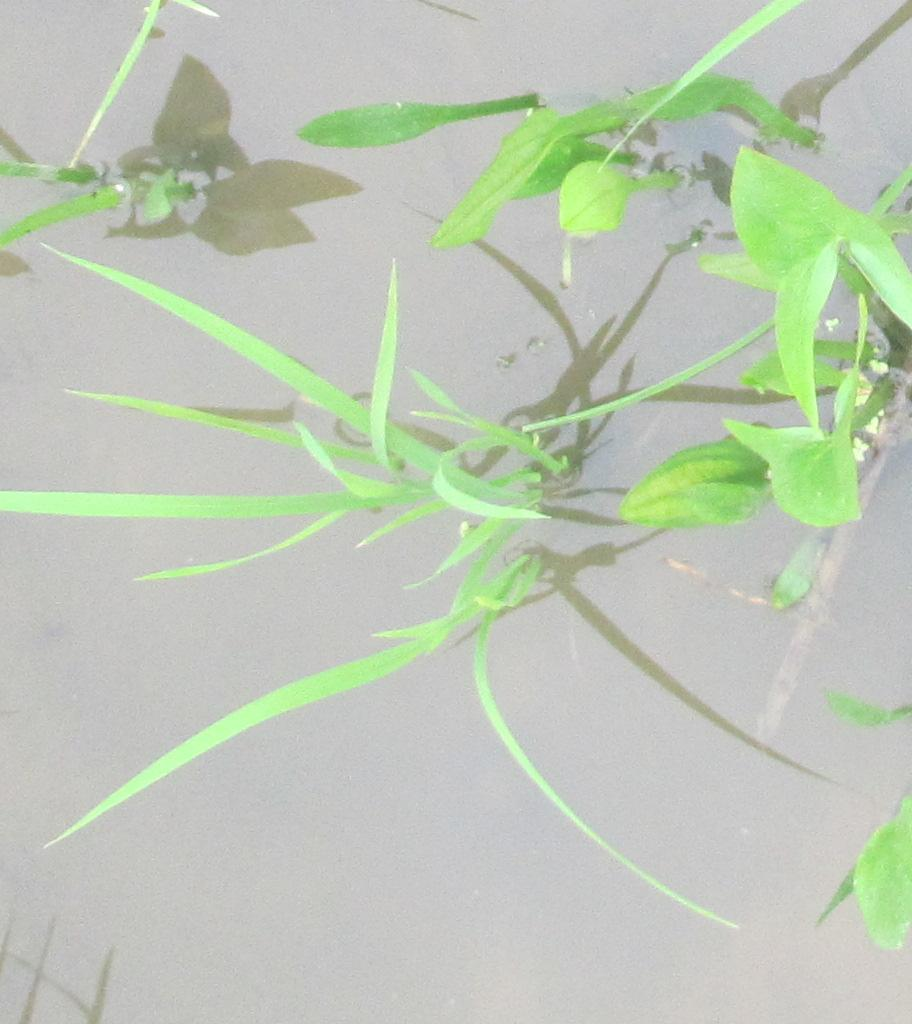Weed: (711, 144, 912, 528), (297, 89, 674, 241)
